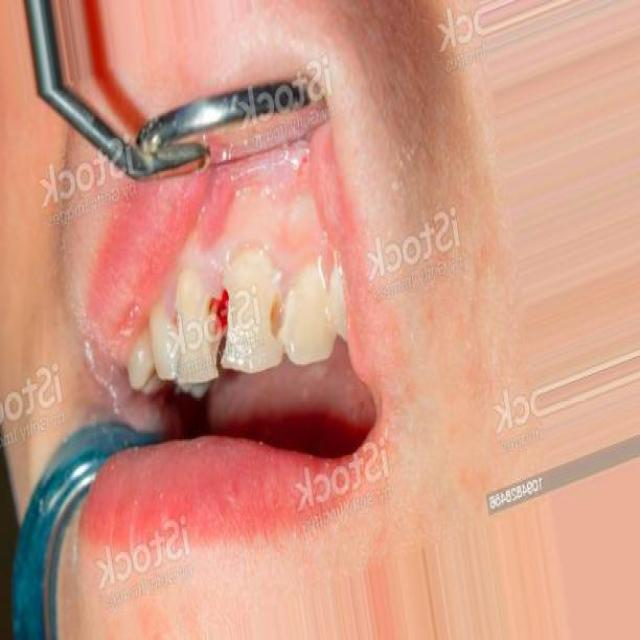caries: (254, 276, 307, 353), (191, 272, 241, 352)
